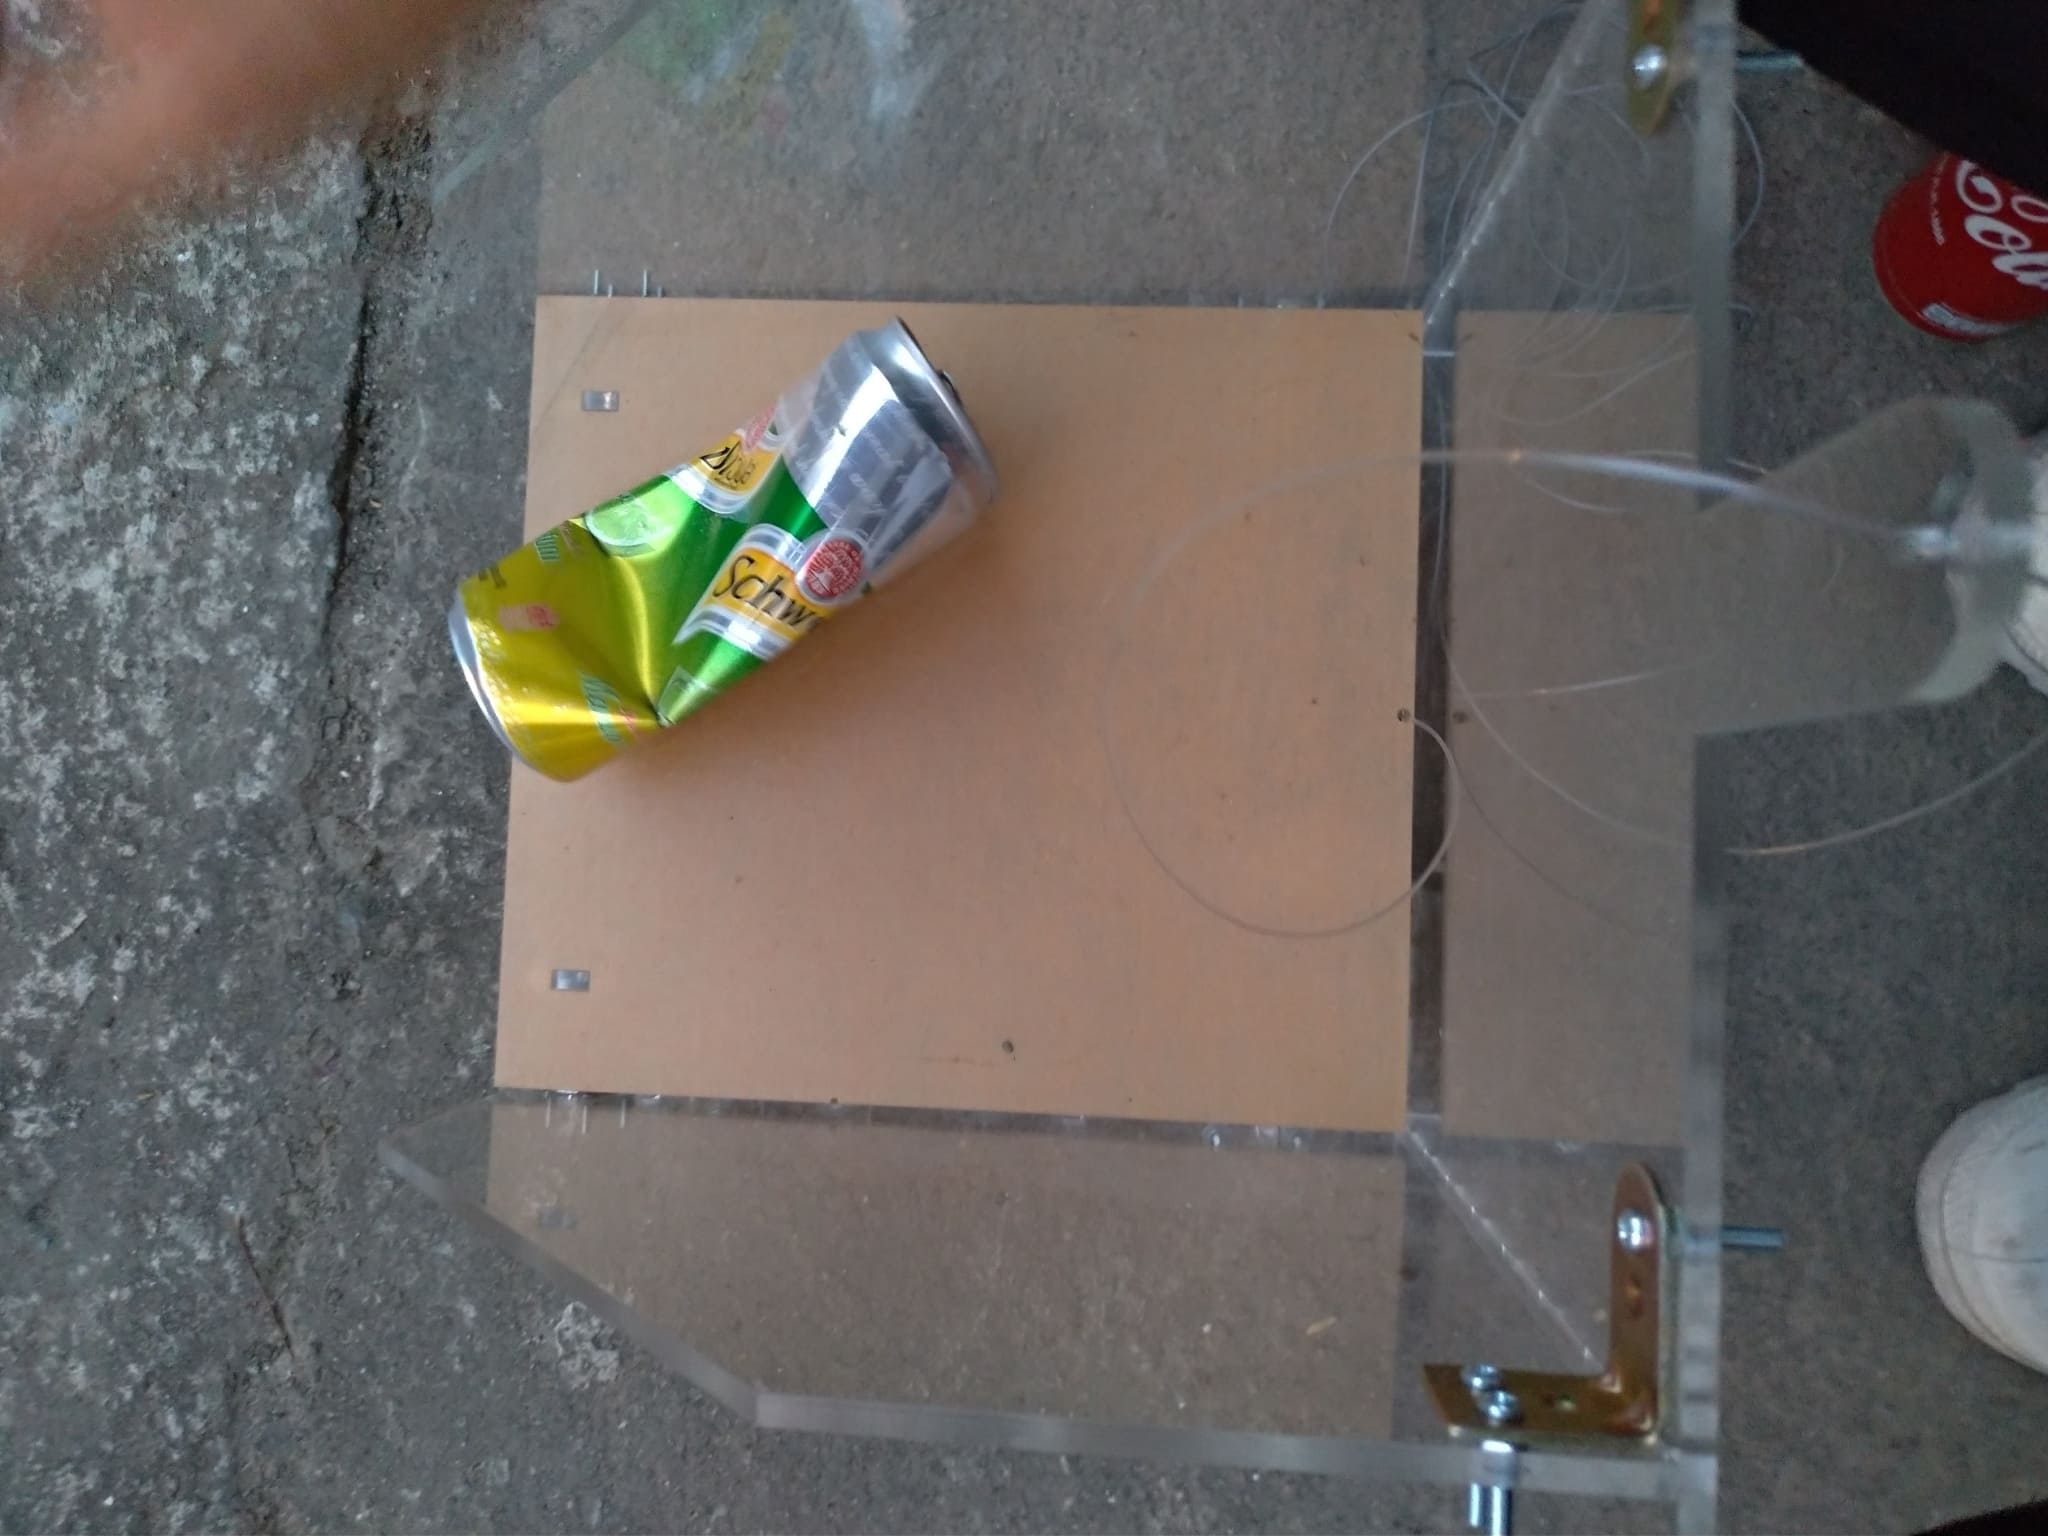AlCan: (448, 319, 993, 792), (1872, 132, 2038, 350)
